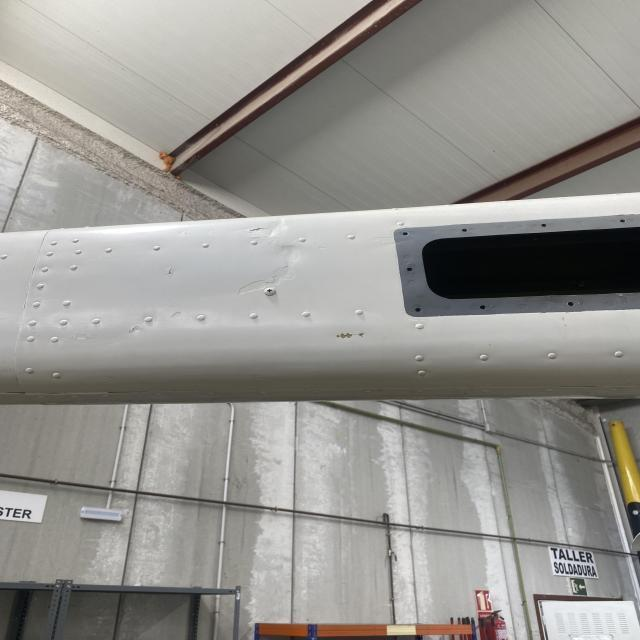Rupture: (162, 266, 176, 276)
